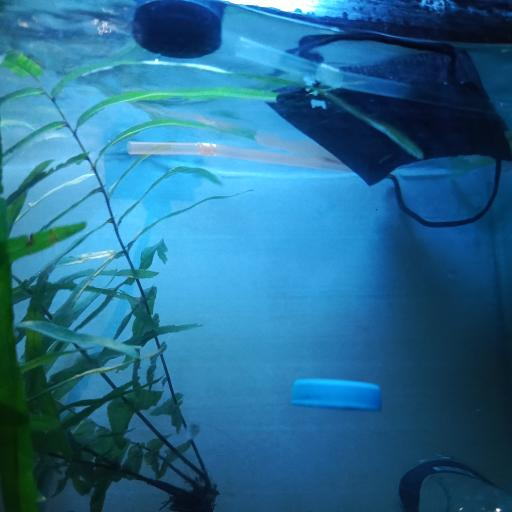bottle_cap: (134, 0, 222, 60), (292, 377, 382, 413)
mask: (264, 35, 510, 227)
plastic_bottle: (385, 444, 512, 512)
plastic_straw: (235, 36, 512, 107), (130, 139, 352, 173)
